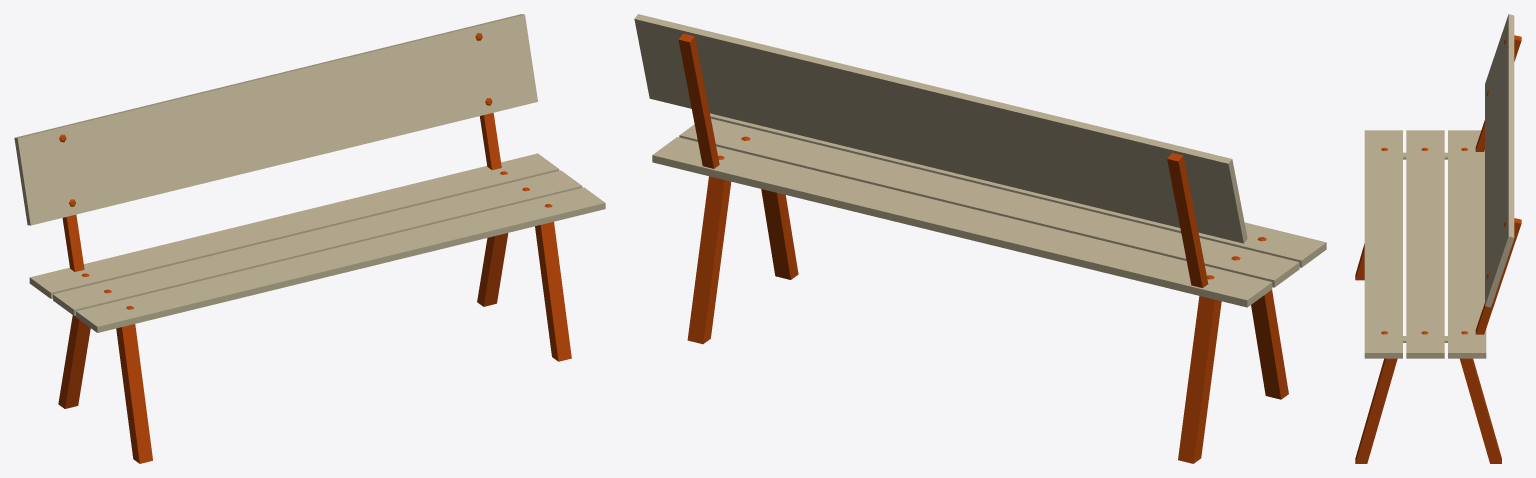
File: SM_Bench_02.fbx
3 views of the same model, side by side, from view 1: azimuth 30°, elevation 25°; view 2: azimuth 150°, elevation 25°; view 3: azimuth 270°, elevation 25° (orthographic). The views are drawn at different scales.
Visible parts, largest first — view 1: SM_Bench_02; view 2: SM_Bench_02; view 3: SM_Bench_02.
Part boxes in pixels (left/top/right/bottom): SM_Bench_02: left=14, top=14, right=605, bottom=463; SM_Bench_02: left=634, top=14, right=1326, bottom=463; SM_Bench_02: left=1355, top=14, right=1521, bottom=463.
Size of the model in its own units: 189 by 96.62 by 59.48.
1 material, 1 textured.
